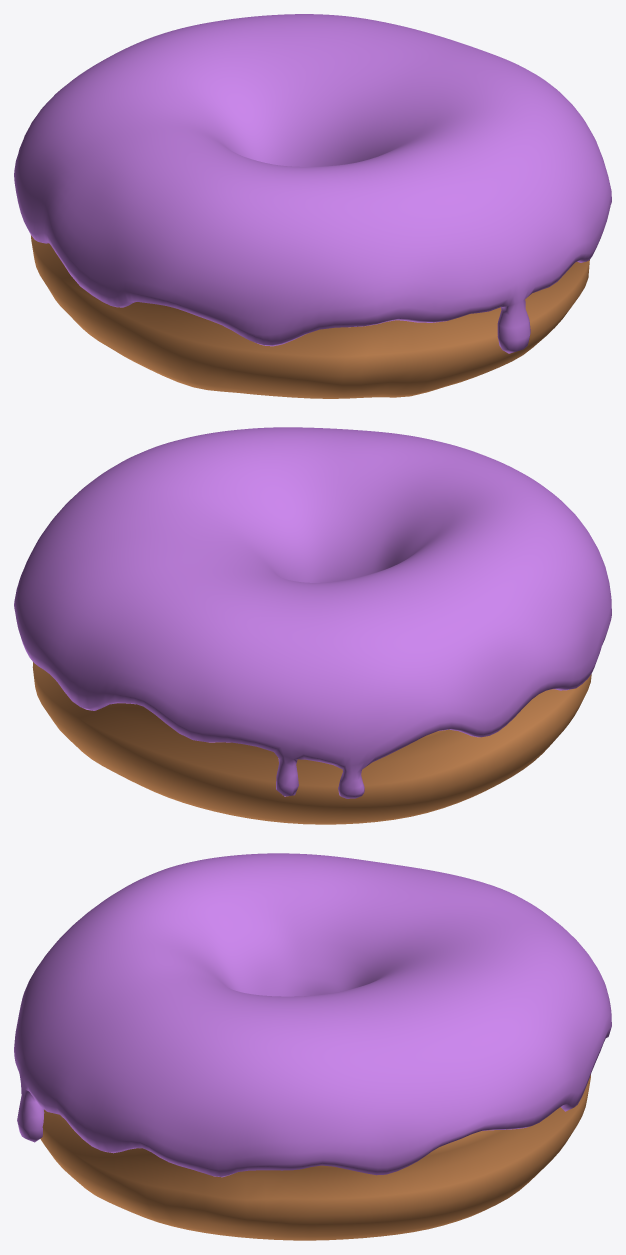
The model's file is donut.fbx.
The picture shows the model from 3 angles, top to bottom: view 1: azimuth 30°, elevation 25°; view 2: azimuth 150°, elevation 25°; view 3: azimuth 270°, elevation 25°; orthographic projection. The views are drawn at different scales.
Visible parts, largest first — view 1: lukier, donut; view 2: lukier, donut; view 3: lukier, donut.
Boxes of the visible parts, bbox=[...] form: lukier: bbox=[14, 14, 611, 353]; donut: bbox=[31, 235, 589, 398]; lukier: bbox=[14, 427, 611, 798]; donut: bbox=[32, 662, 591, 824]; lukier: bbox=[14, 853, 611, 1177]; donut: bbox=[40, 1075, 590, 1240].
Bounding box in the file's own units: 9.28 × 3.88 × 9.44.
